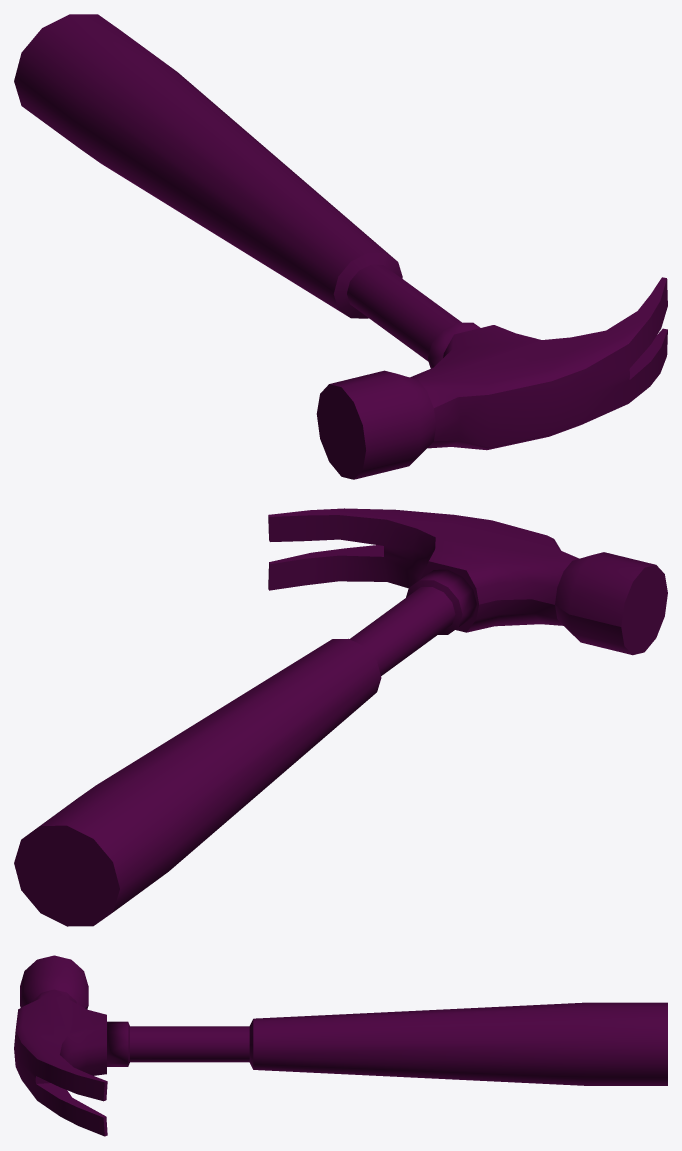
Rendered from Workshop_Tool5.fbx.
3 renders of one model, top to bottom at view 1: azimuth 30°, elevation 25°; view 2: azimuth 150°, elevation 25°; view 3: azimuth 270°, elevation 25°, orthographic. The views are drawn at different scales.
Parts seen in each view (by area): view 1: Workshop_Tool5; view 2: Workshop_Tool5; view 3: Workshop_Tool5.
Part boxes in pixels (box(x1,y1,x2,y2)): Workshop_Tool5: box(14, 14, 667, 479); Workshop_Tool5: box(14, 508, 667, 926); Workshop_Tool5: box(14, 955, 667, 1136).
Bounding box in the file's own units: 11.15 × 3.14 × 25.08.
